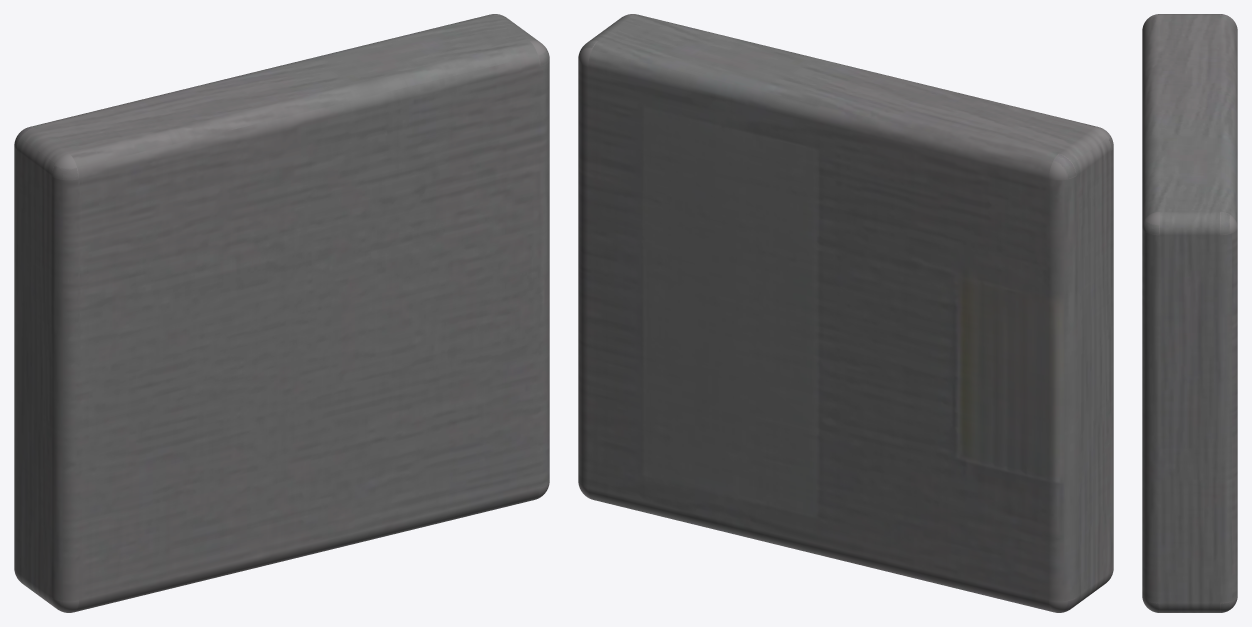
The model's file is seat__pad_shell.glb.
3 views of the same model, side by side, from view 1: azimuth 30°, elevation 25°; view 2: azimuth 150°, elevation 25°; view 3: azimuth 270°, elevation 25° (orthographic). The views are drawn at different scales.
Visible parts, largest first — view 1: world; view 2: world; view 3: world.
Part boxes in pixels (bbox=[...]): world: bbox=[14, 14, 549, 612]; world: bbox=[578, 14, 1113, 612]; world: bbox=[1142, 14, 1237, 612].
Size of the model in its own units: 0.34 by 0.3 by 0.065.
Materials: 1 (1 with a texture image).
